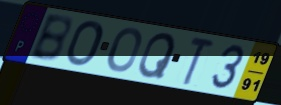3: (210, 43, 246, 91)
B: (27, 14, 73, 64)
O: (64, 19, 105, 68), (105, 26, 143, 74)
Q: (137, 31, 178, 80)
T: (181, 35, 217, 88)
